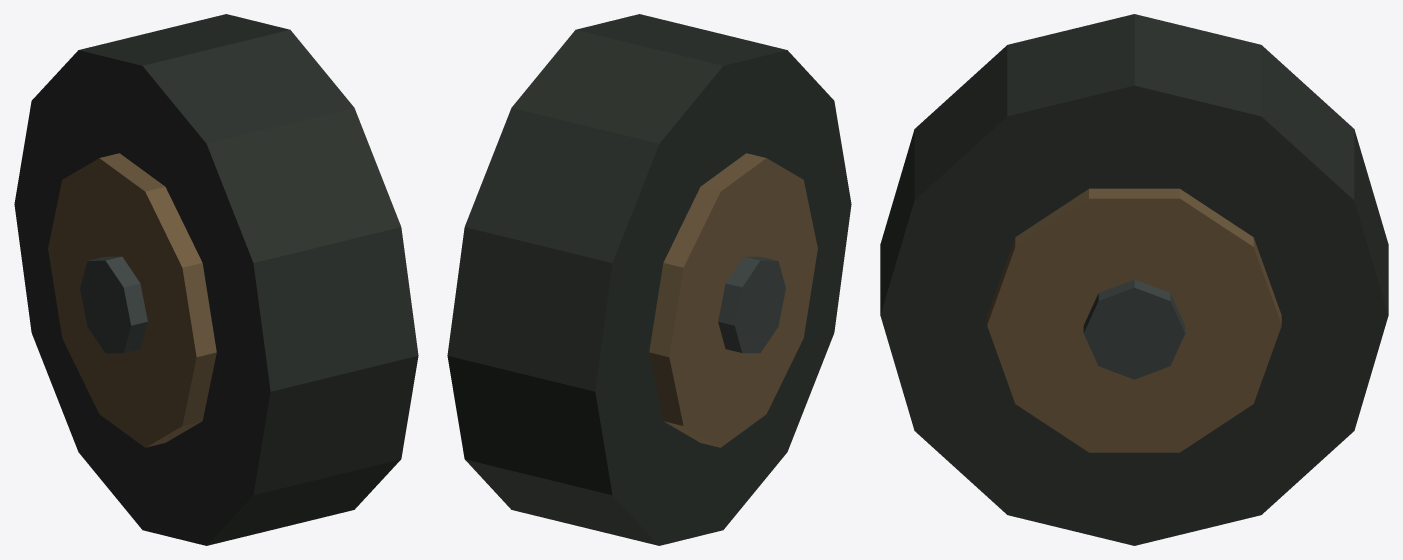
Rendered from constructoid_wheel_left.obj.
3 views of the same model, side by side, from view 1: azimuth 30°, elevation 25°; view 2: azimuth 150°, elevation 25°; view 3: azimuth 270°, elevation 25° (orthographic).
Visible parts, largest first — view 1: constructoid_wheel_left; view 2: constructoid_wheel_left; view 3: constructoid_wheel_left.
Part boxes in pixels (left/top/right/bottom): constructoid_wheel_left: left=14, top=14, right=418, bottom=545; constructoid_wheel_left: left=447, top=14, right=851, bottom=545; constructoid_wheel_left: left=880, top=14, right=1388, bottom=545.
Size of the model in its own units: 0.225 by 0.45 by 0.45.
